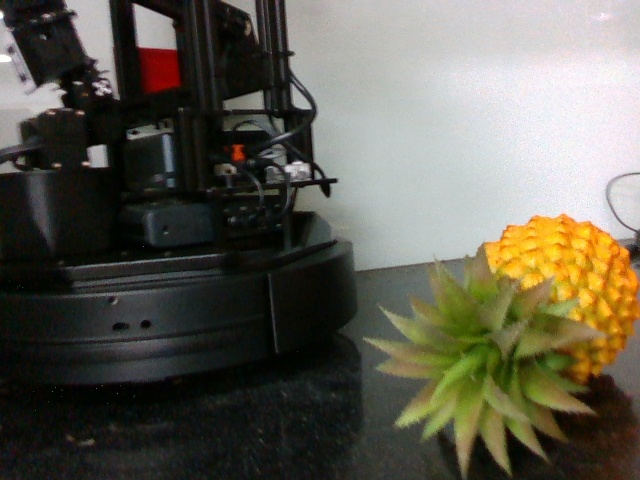pineapple: (371, 212, 639, 461)
